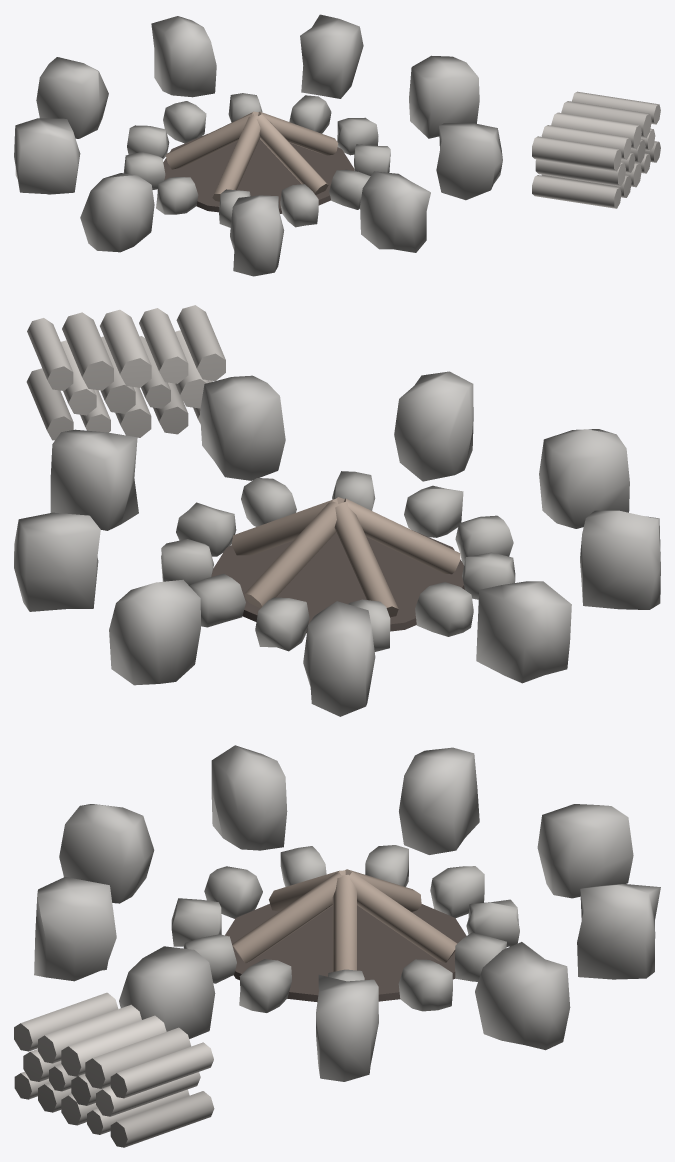
Rendered from hw_village_hearth.glb.
3 views of the same model, one above another, from view 1: azimuth 30°, elevation 25°; view 2: azimuth 150°, elevation 25°; view 3: azimuth 270°, elevation 25° (orthographic). The views are drawn at different scales.
Parts seen in each view (by area): view 1: Building; view 2: Building; view 3: Building.
Boxes of the visible parts, box(x1,y1,x2,y2) form: Building: box(14, 14, 660, 276); Building: box(14, 305, 660, 716); Building: box(14, 745, 660, 1147).
Bounding box in the file's own units: 3.05 × 0.3967 × 2.52.
